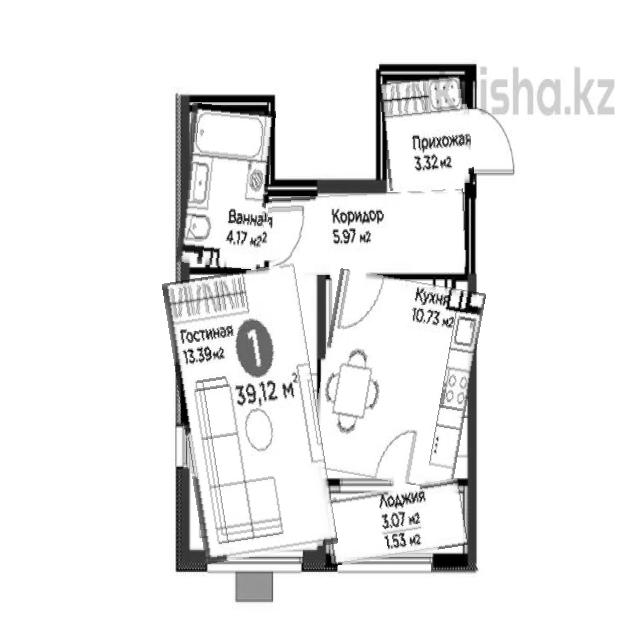balcony: (324, 483, 466, 561)
bathroom: (180, 105, 272, 268)
hallway: (269, 190, 467, 275), (382, 78, 473, 190)
kitchen: (314, 274, 478, 486)
living_room: (173, 268, 328, 560)
